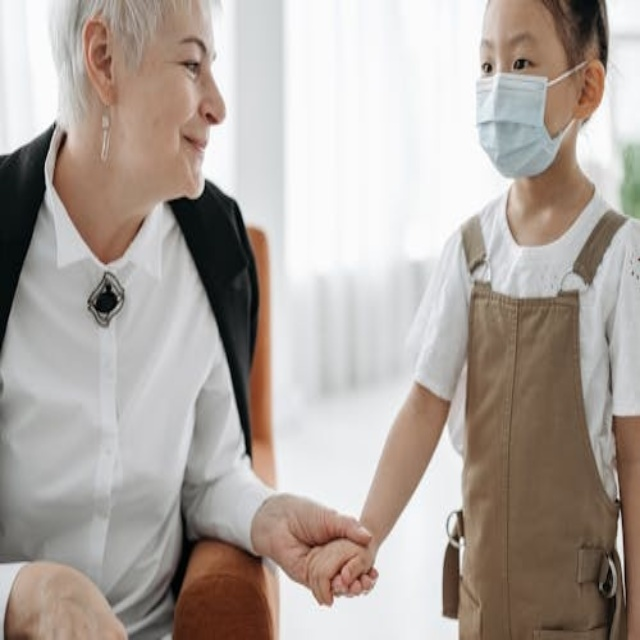Mascara: (477, 62, 589, 179)
Sin_gafas: (476, 29, 558, 77), (160, 23, 215, 79)
Sin_guantes: (255, 494, 378, 607)
Sin_mascara: (157, 125, 211, 194)
